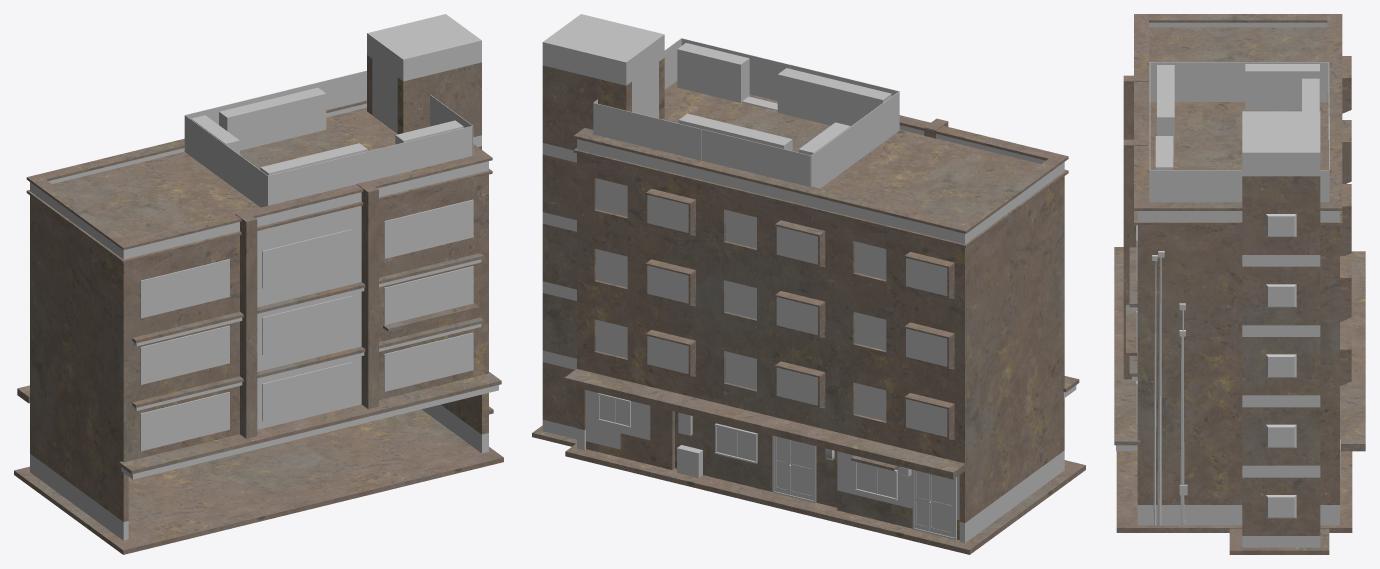
Rendered from gmallbil_3x4_2_In_a.fbx.
The picture shows the model from 3 angles, left to right: view 1: azimuth 30°, elevation 25°; view 2: azimuth 150°, elevation 25°; view 3: azimuth 270°, elevation 25°; orthographic projection. The views are drawn at different scales.
Parts seen in each view (by area): view 1: gmallbil_3x4_2_In_a; view 2: gmallbil_3x4_2_In_a; view 3: gmallbil_3x4_2_In_a.
Part boxes in pixels (left/top/right/bottom): gmallbil_3x4_2_In_a: left=14, top=14, right=503, bottom=554; gmallbil_3x4_2_In_a: left=532, top=14, right=1085, bottom=554; gmallbil_3x4_2_In_a: left=1114, top=14, right=1365, bottom=554.
Bounding box in the file's own units: 1979 × 1656 × 945.
